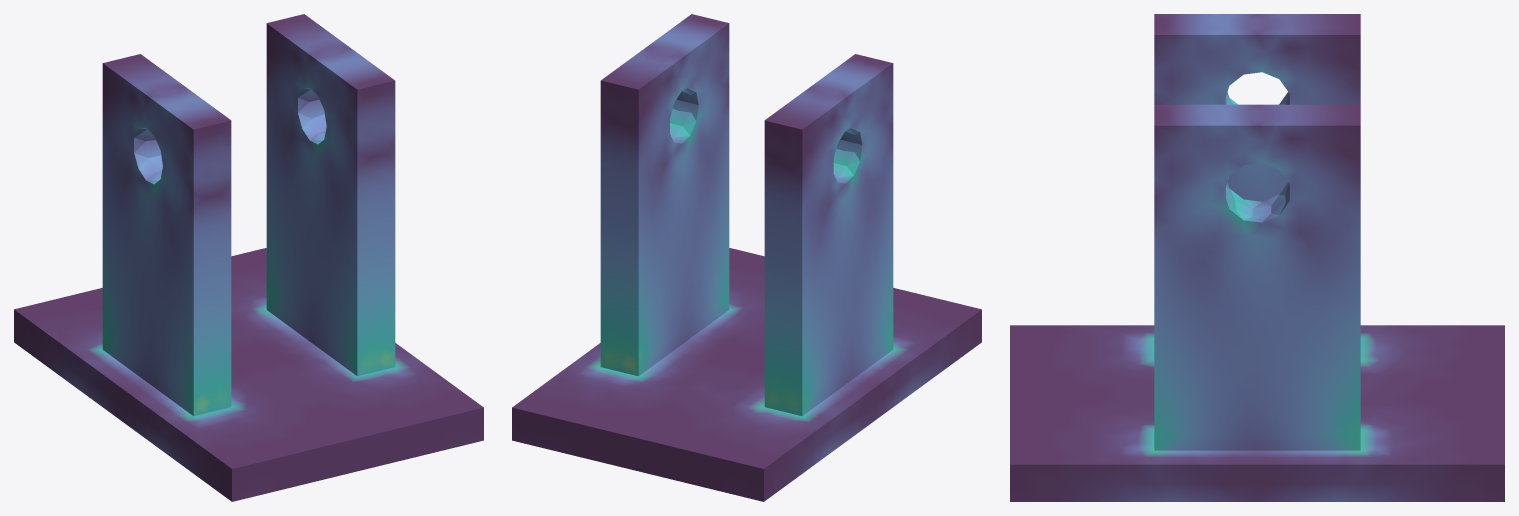
Rendered from CAD_LG-DUP.glb.
3 views of the same model, side by side, from view 1: azimuth 30°, elevation 25°; view 2: azimuth 150°, elevation 25°; view 3: azimuth 270°, elevation 25° (orthographic). The views are drawn at different scales.
Parts seen in each view (by area): view 1: geometry_0; view 2: geometry_0; view 3: geometry_0.
Boxes of the visible parts, x1,y1,x2,y2 form: geometry_0: (14,14,483,501); geometry_0: (512,14,981,501); geometry_0: (1010,14,1504,501).
Bounding box in the file's own units: 0.08 × 0.097 × 0.12.
